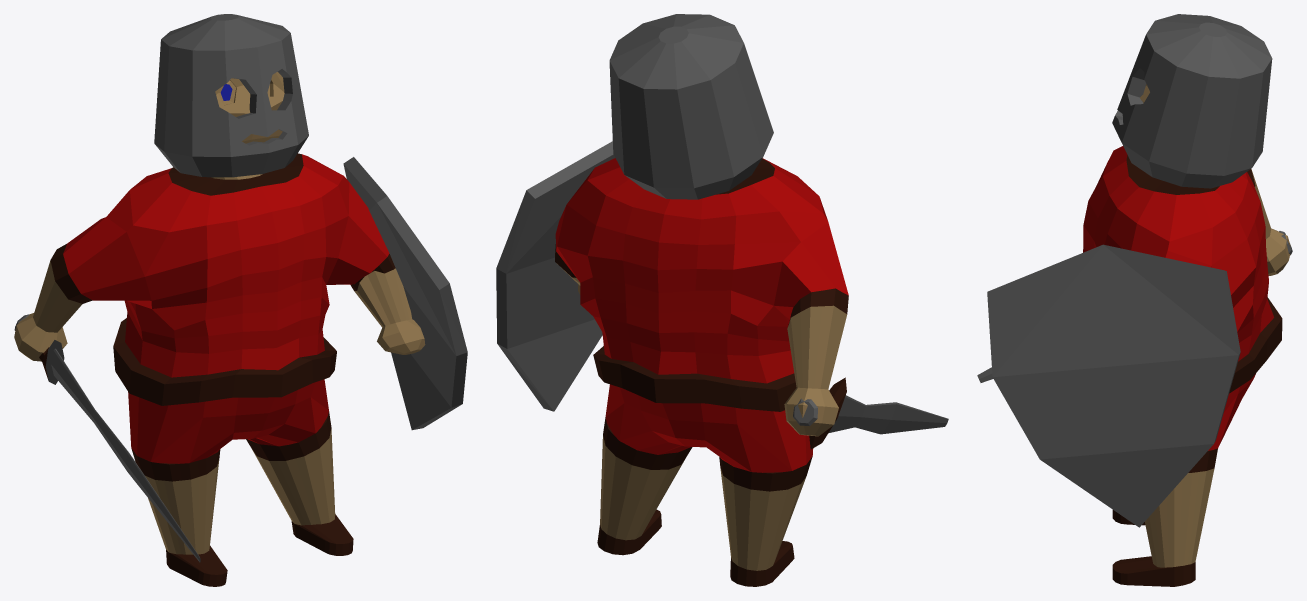
The model's file is Frame2.obj.
3 renders of one model, left to right at view 1: azimuth 30°, elevation 25°; view 2: azimuth 150°, elevation 25°; view 3: azimuth 270°, elevation 25°, orthographic. The views are drawn at different scales.
Parts seen in each view (by area): view 1: Circle_Circle.001; view 2: Circle_Circle.001; view 3: Circle_Circle.001.
Boxes of the visible parts, left/top/right/bottom form: Circle_Circle.001: left=14, top=14, right=467, bottom=586; Circle_Circle.001: left=496, top=14, right=948, bottom=586; Circle_Circle.001: left=977, top=14, right=1292, bottom=586.
Bounding box in the file's own units: 2.88 × 4.13 × 2.28.
